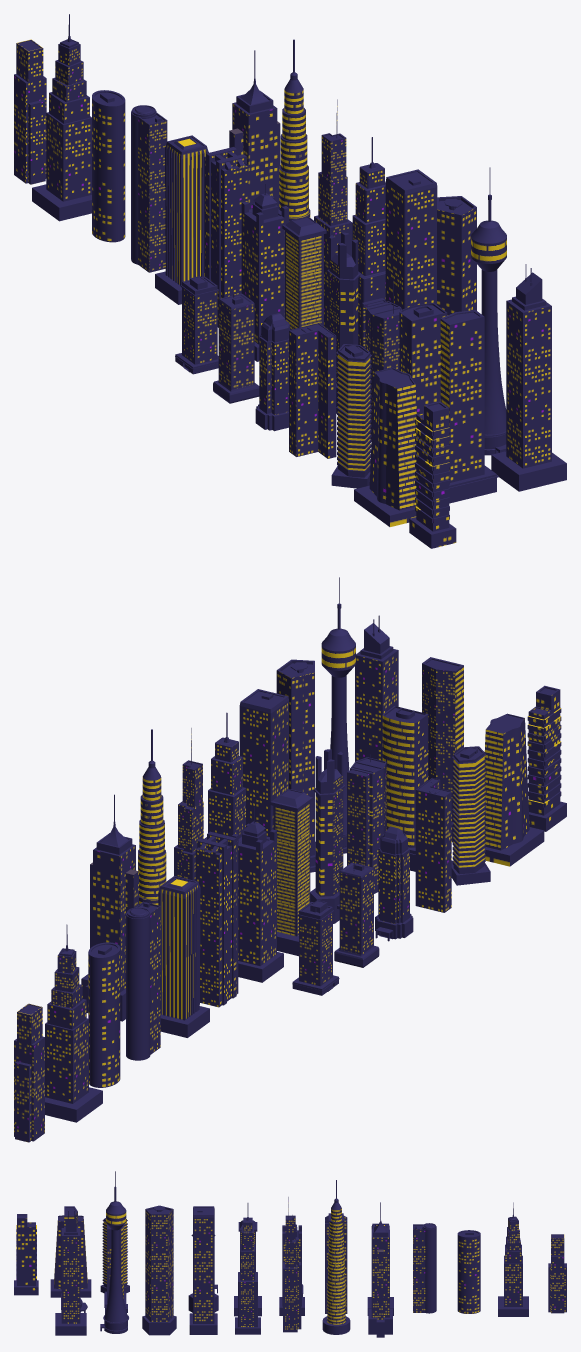
Rendered from buildings.000.fbx.
3 views of the same model, one above another, from view 1: azimuth 30°, elevation 25°; view 2: azimuth 150°, elevation 25°; view 3: azimuth 270°, elevation 25° (orthographic). The views are drawn at different scales.
Parts seen in each view (by area): view 1: skyscaper_big.007, bilding.009, bilding.011, bilding.004, skyscaper_big.004, bilding.013, bilding.017, bilding.012, bilding.007, bilding.014, bilding.003, bilding.008 (+15 smaller); view 2: bilding.011, bilding.012, bilding.004, bilding.013, bilding.014, skyscaper_big.004, skyscaper_big.000, bilding.007, bilding.015, bilding.016, bilding.017, bilding.003 (+15 smaller); view 3: skyscaper_big.005, skyscaper_big.004, skyscaper_big.007, skyscaper_big.001, skyscaper_big.000, skyscaper_big.003, bilding.007, skyscaper_big.006, bilding.008, bilding.011, skyscaper_big.002, bilding.003 (+8 smaller).
Part boxes in pixels (x1,y1,x2,y2): skyscaper_big.007: (491,264,566,491); bilding.009: (440,310,498,503); bilding.011: (32,14,91,221); bilding.004: (354,367,416,526); skyscaper_big.004: (385,169,437,309); bilding.013: (155,135,208,304); bilding.017: (289,323,336,458); bilding.012: (204,147,248,327); bilding.007: (131,105,167,272); bilding.014: (241,180,288,361); bilding.003: (409,401,456,548); bilding.008: (92,90,125,242); bilding.011: (45,924,102,1122); bilding.012: (195,831,238,1007); bilding.004: (484,713,544,866); bilding.013: (158,876,209,1037); bilding.014: (231,807,283,982); skyscaper_big.004: (239,689,288,836); skyscaper_big.000: (81,794,138,1021); bilding.007: (126,901,160,1060); bilding.015: (270,788,313,956); bilding.016: (382,706,428,871); bilding.017: (415,778,451,912); bilding.003: (527,685,566,831); skyscaper_big.005: (142,1205,176,1335); skyscaper_big.004: (189,1206,217,1334); skyscaper_big.007: (55,1211,86,1335); skyscaper_big.001: (322,1180,350,1334); skyscaper_big.000: (368,1202,392,1337); skyscaper_big.003: (235,1203,260,1334); bilding.007: (413,1223,436,1313); skyscaper_big.006: (100,1171,128,1333); bilding.008: (457,1230,480,1313); bilding.011: (498,1202,528,1316); skyscaper_big.002: (283,1197,301,1332); bilding.003: (14,1214,38,1295).
Bounding box in the file's own units: 52.95 × 75.28 × 237.
